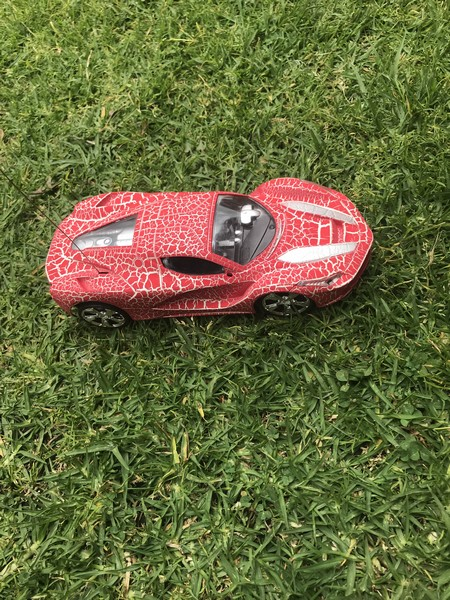RC: (43, 173, 374, 333)
